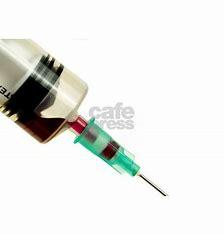Syringe: (5, 30, 169, 198)
